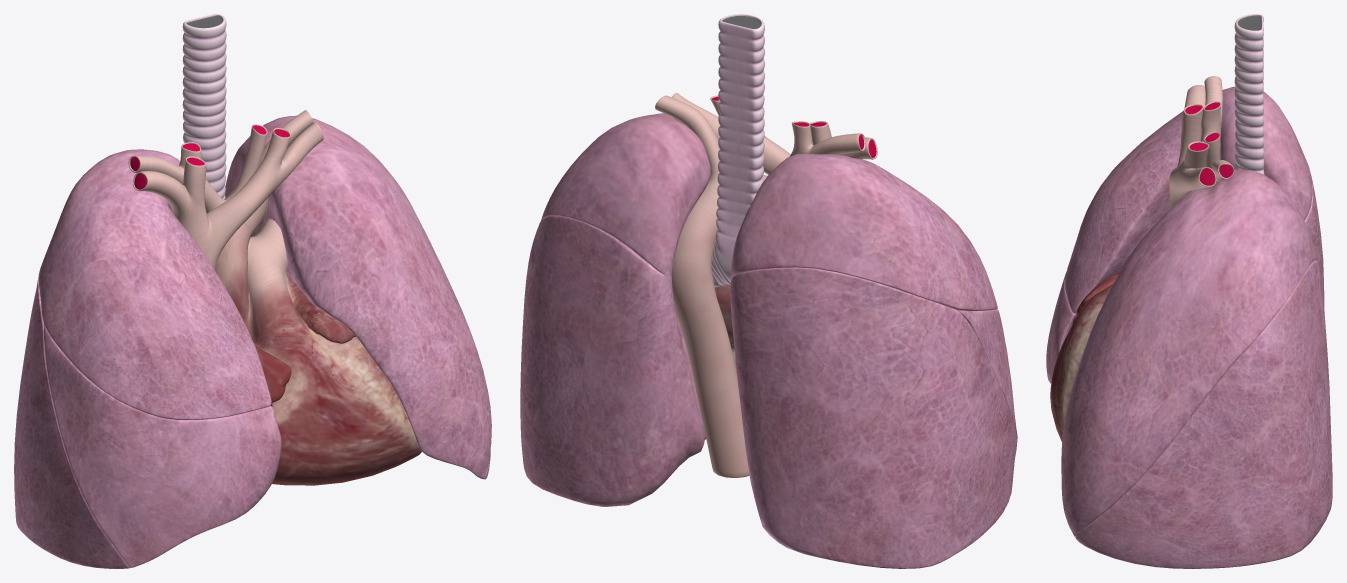
Rendered from Thorax.gltf.
3 renders of one model, left to right at view 1: azimuth 30°, elevation 25°; view 2: azimuth 150°, elevation 25°; view 3: azimuth 270°, elevation 25°, orthographic. The views are drawn at different scales.
Visible parts, largest first — view 1: Lunge_rechts, Lunge_links, Herz, Trachea; view 2: Lunge_rechts, Lunge_links, Herz, Trachea; view 3: Lunge_links, Lunge_rechts, Herz, Trachea.
Part boxes in pixels (box(x1,y1,x2,y2)): Lunge_rechts: box(14, 149, 281, 568); Lunge_links: box(225, 115, 491, 479); Herz: box(128, 110, 421, 485); Trachea: box(182, 14, 226, 199); Lunge_rechts: box(730, 154, 1017, 568); Lunge_links: box(520, 113, 710, 506); Herz: box(655, 93, 877, 477); Trachea: box(711, 14, 764, 287); Lunge_links: box(1061, 169, 1332, 568); Lunge_rechts: box(1046, 86, 1324, 383); Herz: box(1050, 76, 1234, 441); Trachea: box(1234, 14, 1264, 174).
Size of the model in its own units: 0.1569 by 0.1662 by 0.0957.
Materials: 1 (1 with a texture image).
